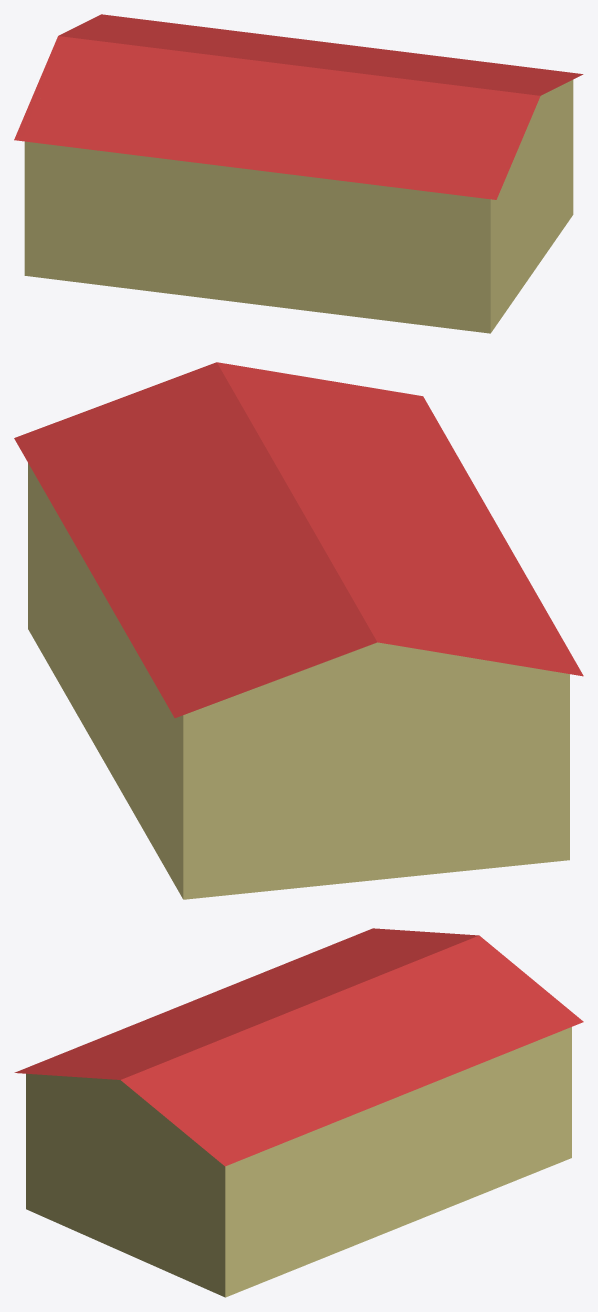
The picture shows the model from 3 angles, top to bottom: view 1: azimuth 30°, elevation 25°; view 2: azimuth 150°, elevation 25°; view 3: azimuth 270°, elevation 25°; orthographic projection. The views are drawn at different scales.
Size of the model in its own units: 33.19 by 33.57 by 11.45.
